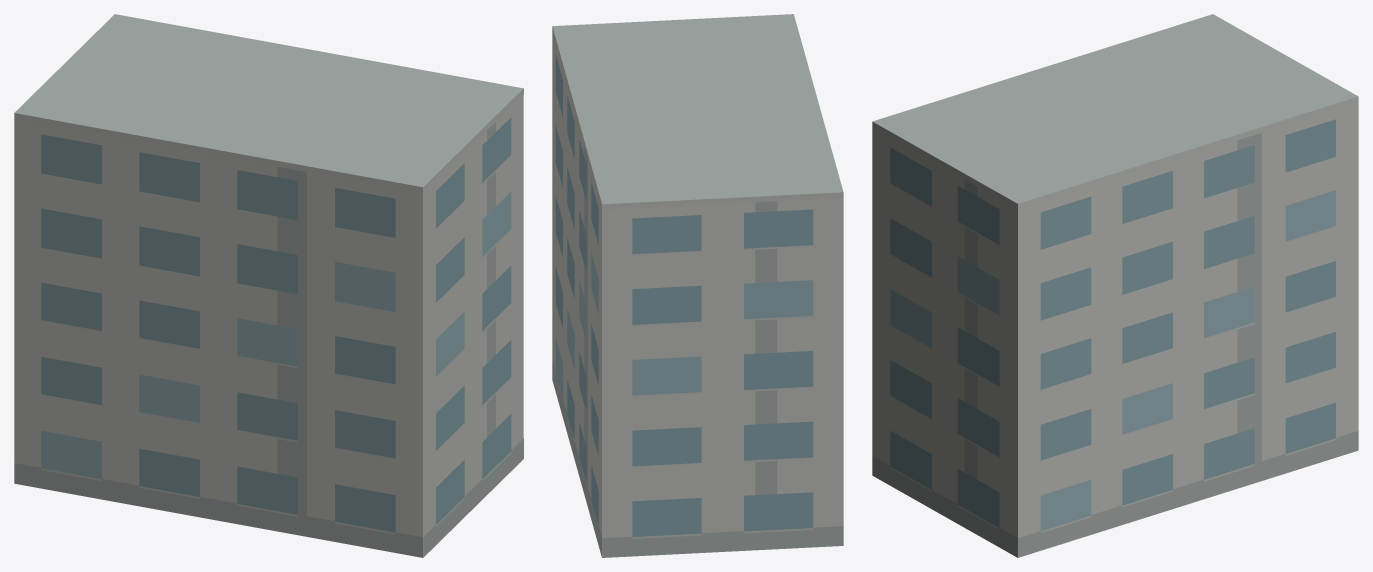
File: residential-bac6cd5e-b649-48eb-978e-de0dc3bb3dce.glb
3 views of the same model, side by side, from view 1: azimuth 30°, elevation 25°; view 2: azimuth 150°, elevation 25°; view 3: azimuth 270°, elevation 25° (orthographic). The views are drawn at different scales.
Parts seen in each view (by area): view 1: residential-bac6cd5e-b649-48eb-978e-de0dc3bb3dce.tmp; view 2: residential-bac6cd5e-b649-48eb-978e-de0dc3bb3dce.tmp; view 3: residential-bac6cd5e-b649-48eb-978e-de0dc3bb3dce.tmp.
Boxes of the visible parts, <box> form: residential-bac6cd5e-b649-48eb-978e-de0dc3bb3dce.tmp: <box>14,14,523,557</box>; residential-bac6cd5e-b649-48eb-978e-de0dc3bb3dce.tmp: <box>552,14,843,557</box>; residential-bac6cd5e-b649-48eb-978e-de0dc3bb3dce.tmp: <box>872,14,1358,557</box>.
Bounding box in the file's own units: 17.49 × 15.2 × 18.93.
